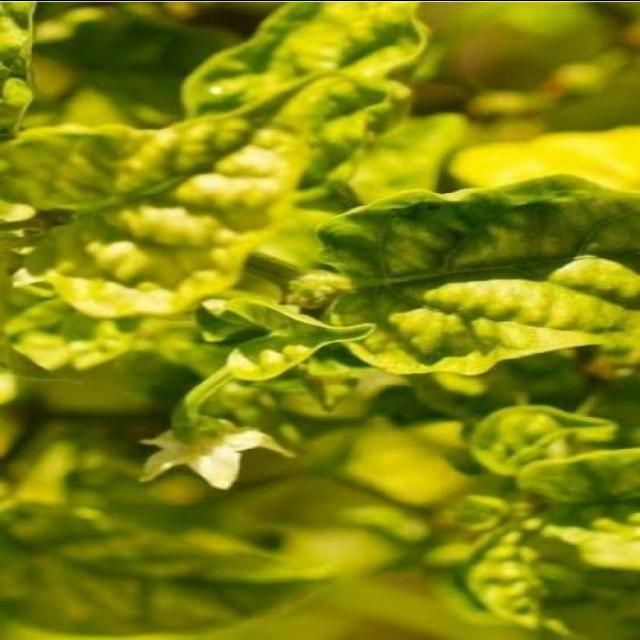virus_kuning: (313, 170, 639, 381), (207, 290, 359, 376)
